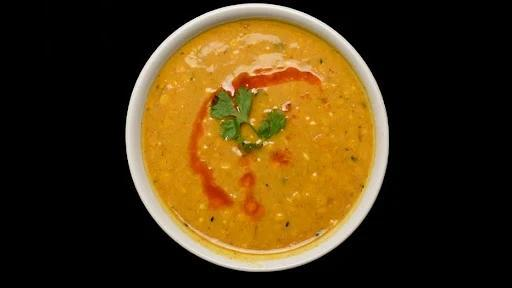dal: (122, 0, 380, 268)
